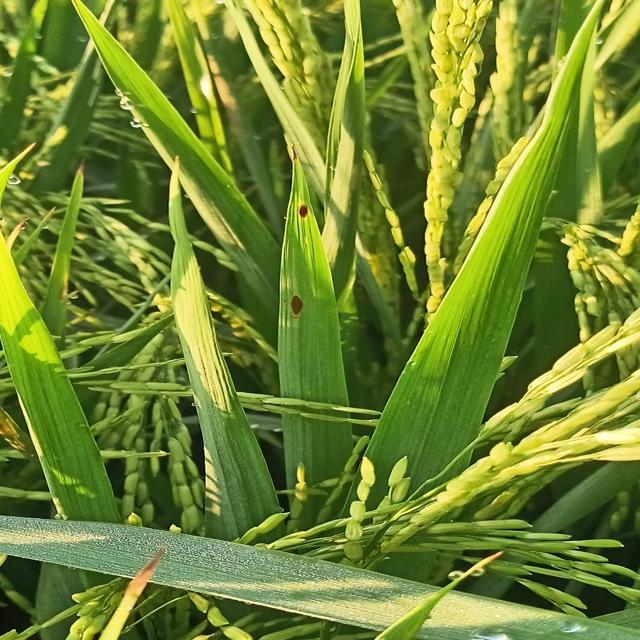insects: (283, 284, 311, 326), (292, 193, 318, 227), (288, 142, 300, 162)
